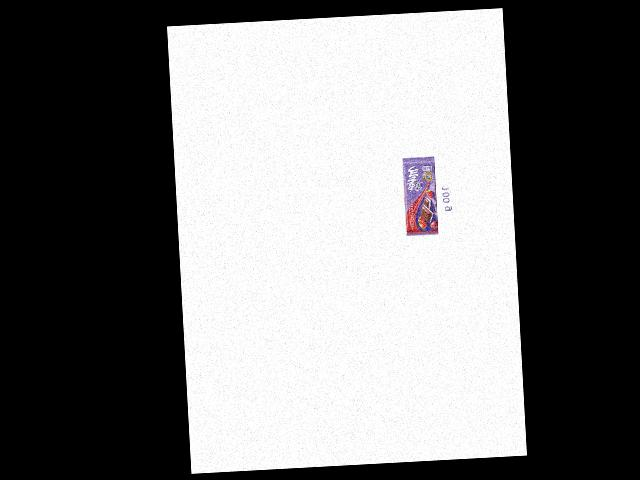chocolate: (402, 156, 442, 236)
